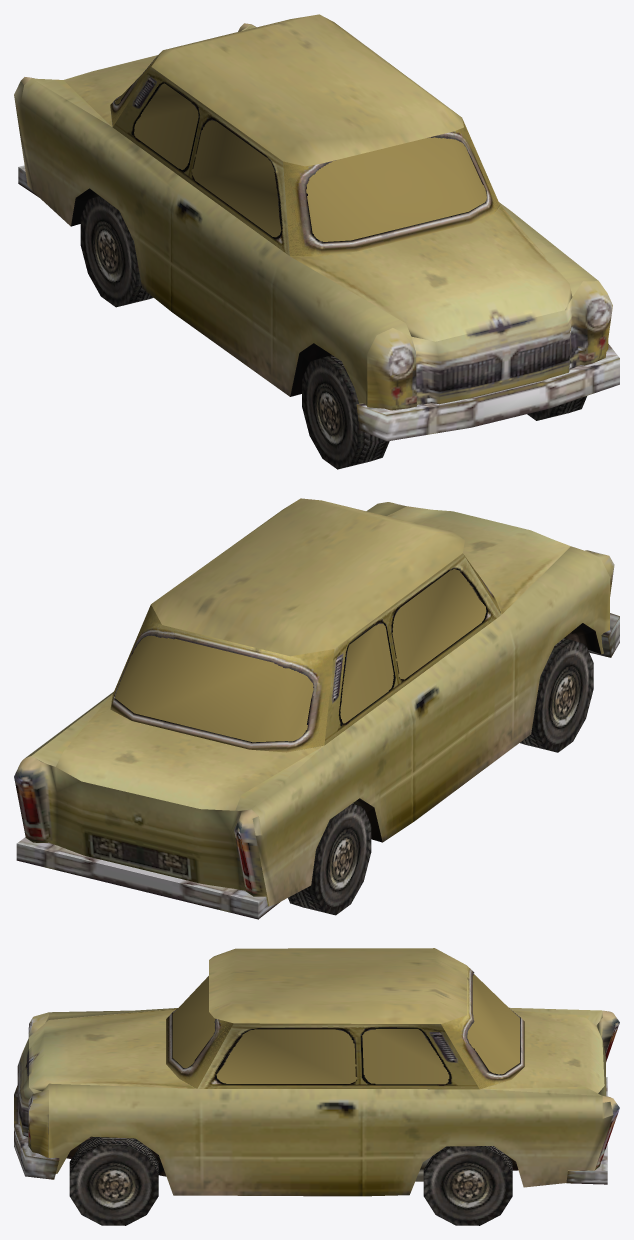
The model's file is Ncar1.glb.
The picture shows the model from 3 angles, top to bottom: view 1: azimuth 30°, elevation 25°; view 2: azimuth 150°, elevation 25°; view 3: azimuth 270°, elevation 25°; orthographic projection. The views are drawn at different scales.
Parts seen in each view (by area): view 1: _NCar1; view 2: _NCar1; view 3: _NCar1.
Boxes of the visible parts, box(x1,y1,x2,y2) form: _NCar1: box(14, 14, 619, 469); _NCar1: box(14, 498, 619, 919); _NCar1: box(14, 948, 619, 1225).
Bounding box in the file's own units: 1.88 × 1.83 × 4.91.
Materials: 6 (6 with a texture image).
